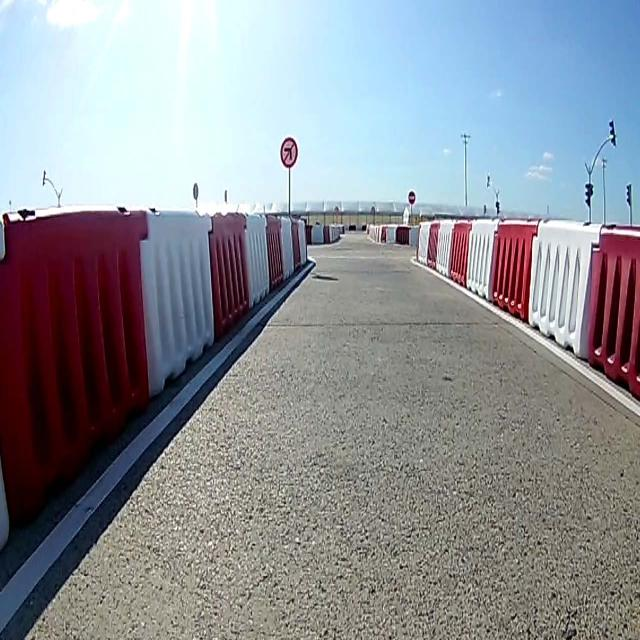girisyok: (407, 188, 416, 205)
soladonulmez: (280, 136, 298, 168)
